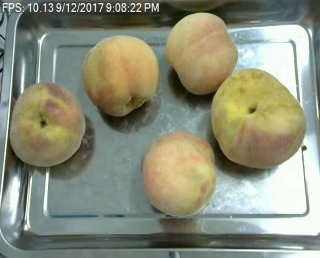Peach: (210, 69, 305, 169), (8, 80, 84, 167), (142, 130, 217, 218), (82, 34, 159, 116), (166, 11, 238, 95)
